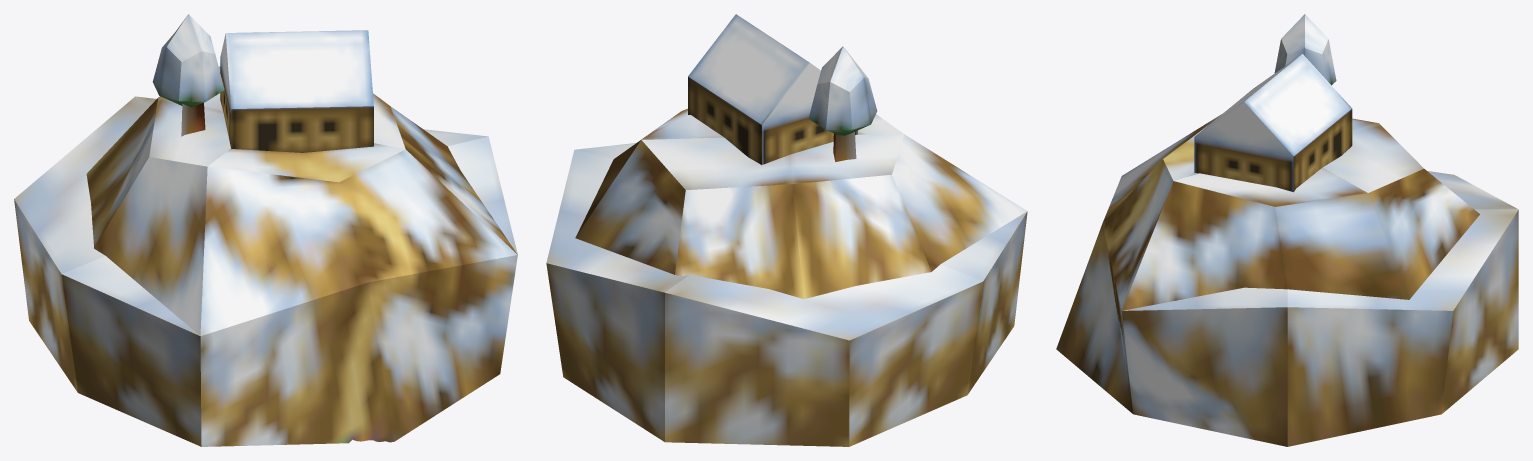
Rendered from Poly_World_Map_Town_House_01_Snow.obj.
3 views of the same model, side by side, from view 1: azimuth 30°, elevation 25°; view 2: azimuth 150°, elevation 25°; view 3: azimuth 270°, elevation 25° (orthographic). The views are drawn at different scales.
Parts seen in each view (by area): view 1: Cube, Cube.001, Cube.003, Cube.002; view 2: Cube, Cube.001, Cube.003, Cube.002; view 3: Cube, Cube.001, Cube.003, Cube.002.
Boxes of the visible parts, x1=… form: Cube: x1=14, y1=96, x2=517, y2=446; Cube.001: x1=86, y1=66, x2=517, y2=336; Cube.003: x1=220, y1=30, x2=373, y2=152; Cube.002: x1=152, y1=14, x2=224, y2=136; Cube: x1=546, y1=143, x2=1027, y2=446; Cube.001: x1=575, y1=108, x2=1027, y2=298; Cube.003: x1=688, y1=14, x2=857, y2=164; Cube.002: x1=808, y1=46, x2=877, y2=161; Cube: x1=1056, y1=171, x2=1518, y2=446; Cube.001: x1=1102, y1=114, x2=1479, y2=310; Cube.003: x1=1194, y1=54, x2=1352, y2=192; Cube.002: x1=1274, y1=14, x2=1336, y2=85.
Bounding box in the file's own units: 1.14 × 0.8765 × 1.2.
Materials: 1 (1 with a texture image).
